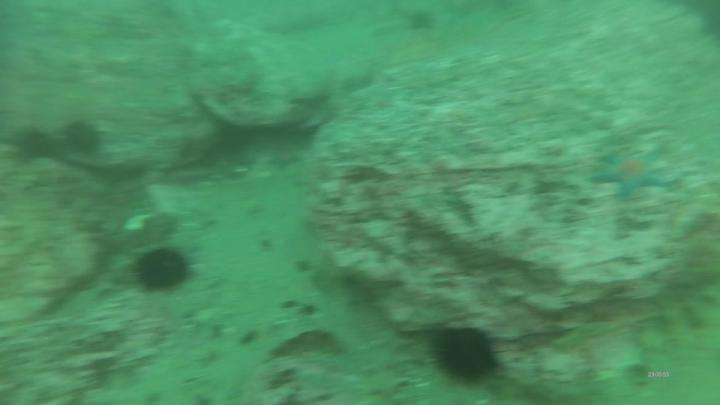echinus: (436, 325, 498, 383), (136, 247, 191, 294), (60, 118, 102, 159), (20, 127, 57, 164)
starfish: (592, 144, 673, 205)
